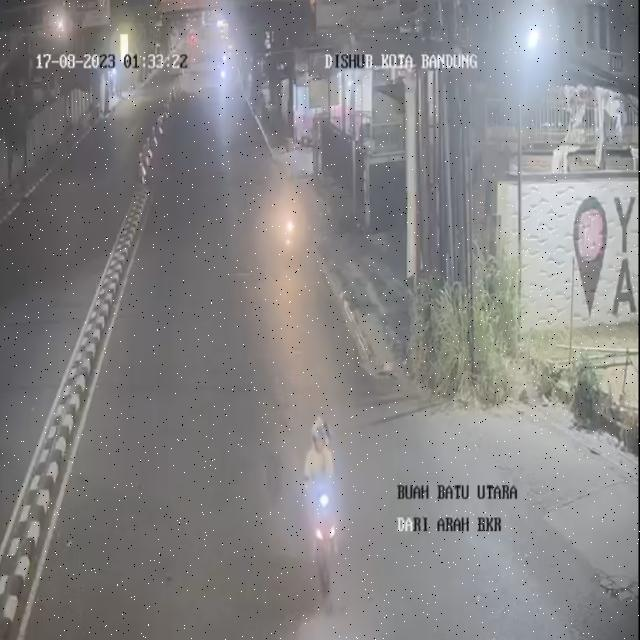motorcycle: (291, 410, 347, 604), (272, 183, 304, 268)
